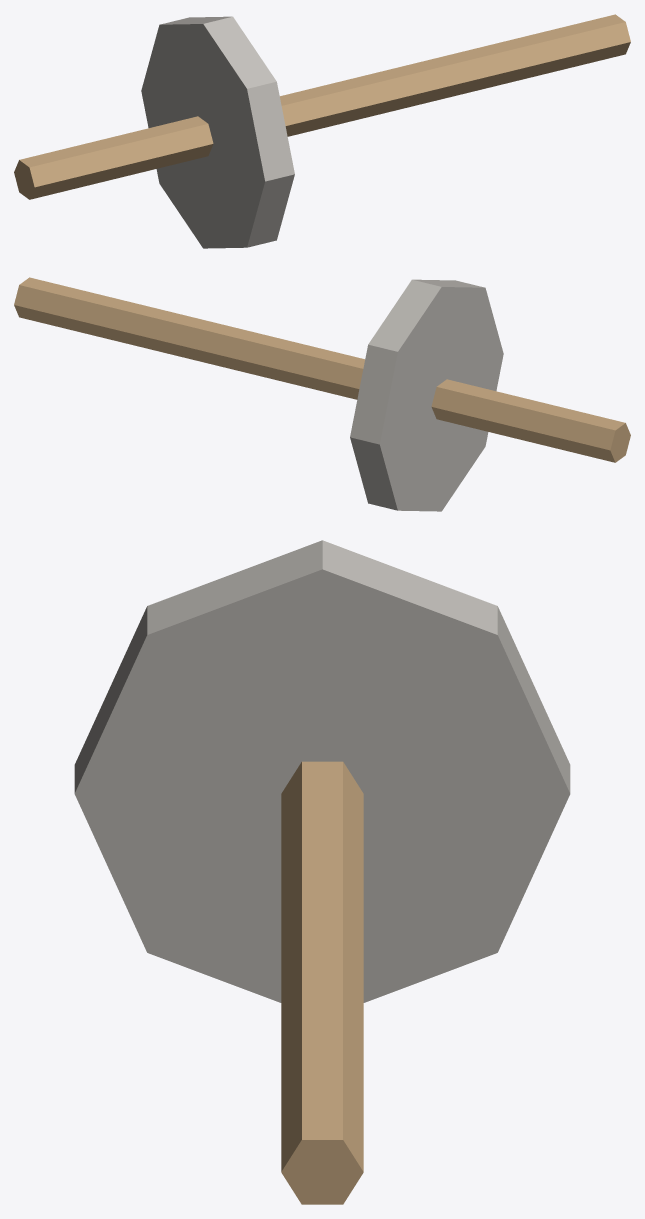
The model's file is item_035_hand_spindle_s.glb.
The picture shows the model from 3 angles, top to bottom: view 1: azimuth 30°, elevation 25°; view 2: azimuth 150°, elevation 25°; view 3: azimuth 270°, elevation 25°; orthographic projection. The views are drawn at different scales.
Visible parts, largest first — view 1: item_035_hand_spindle_s; view 2: item_035_hand_spindle_s; view 3: item_035_hand_spindle_s.
Boxes of the visible parts, x1,y1,x2,y2 form: item_035_hand_spindle_s: [14, 14, 630, 248]; item_035_hand_spindle_s: [14, 277, 630, 511]; item_035_hand_spindle_s: [74, 540, 570, 1204].
Bounding box in the file's own units: 0.5 × 0.18 × 0.18.
